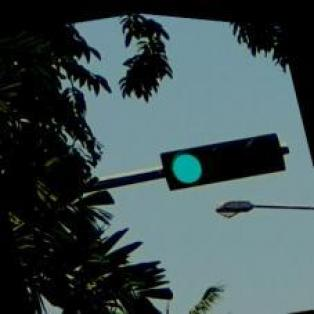Semaforo Verde: (162, 119, 288, 196)
